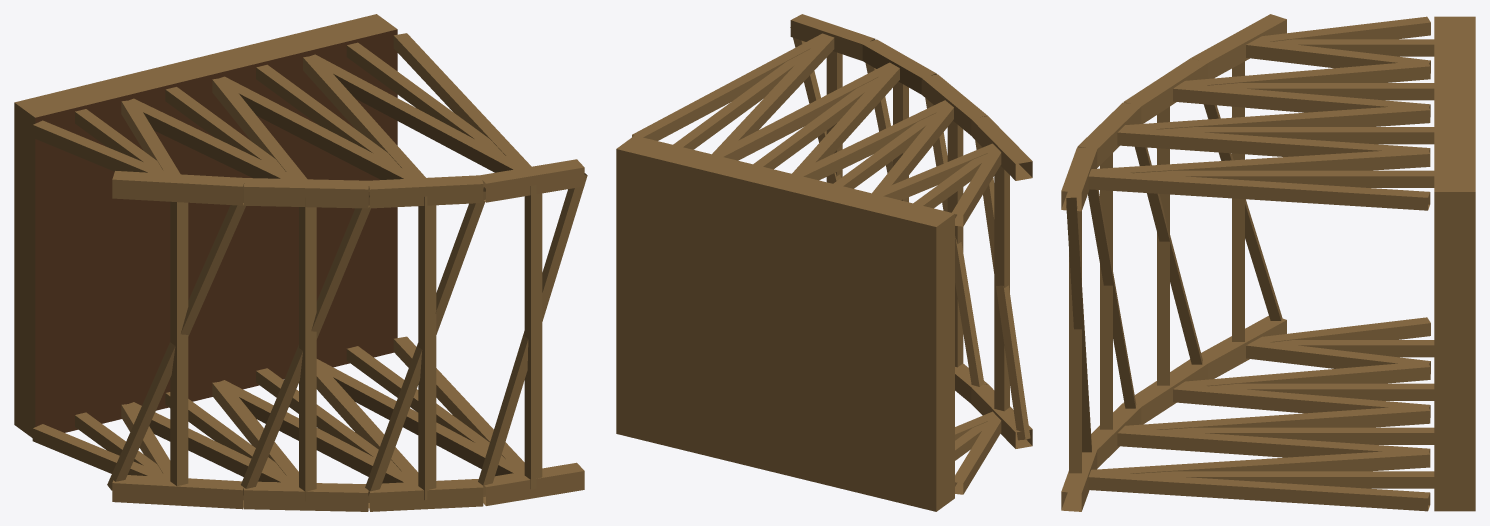
The model's file is north.glb.
The picture shows the model from 3 angles, left to right: view 1: azimuth 30°, elevation 25°; view 2: azimuth 150°, elevation 25°; view 3: azimuth 270°, elevation 25°; orthographic projection. The views are drawn at different scales.
Parts seen in each view (by area): view 1: bridge_07_north; view 2: bridge_07_north; view 3: bridge_07_north.
Part boxes in pixels (x1,y1,x2,y2): bridge_07_north: (14,14,587,511); bridge_07_north: (616,14,1032,511); bridge_07_north: (1061,14,1475,511).
Size of the model in its own units: 16.54 by 13.6 by 16.
